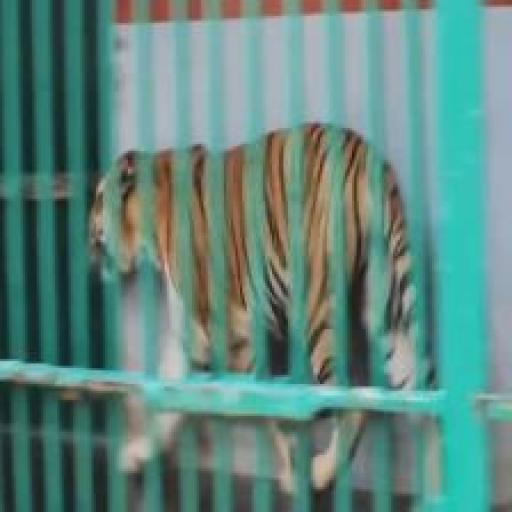Tiger: (68, 114, 439, 512)
